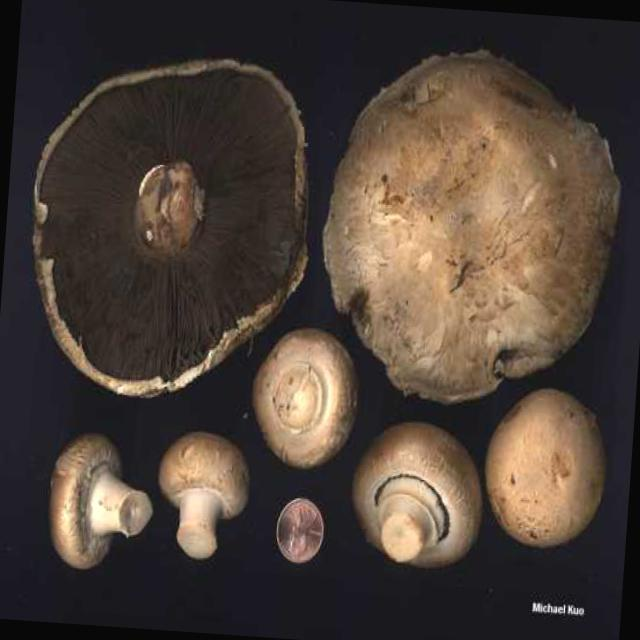Agaricus bisporus: (484, 382, 614, 548), (348, 414, 488, 566), (50, 434, 156, 568), (259, 326, 360, 462), (154, 428, 256, 562)
